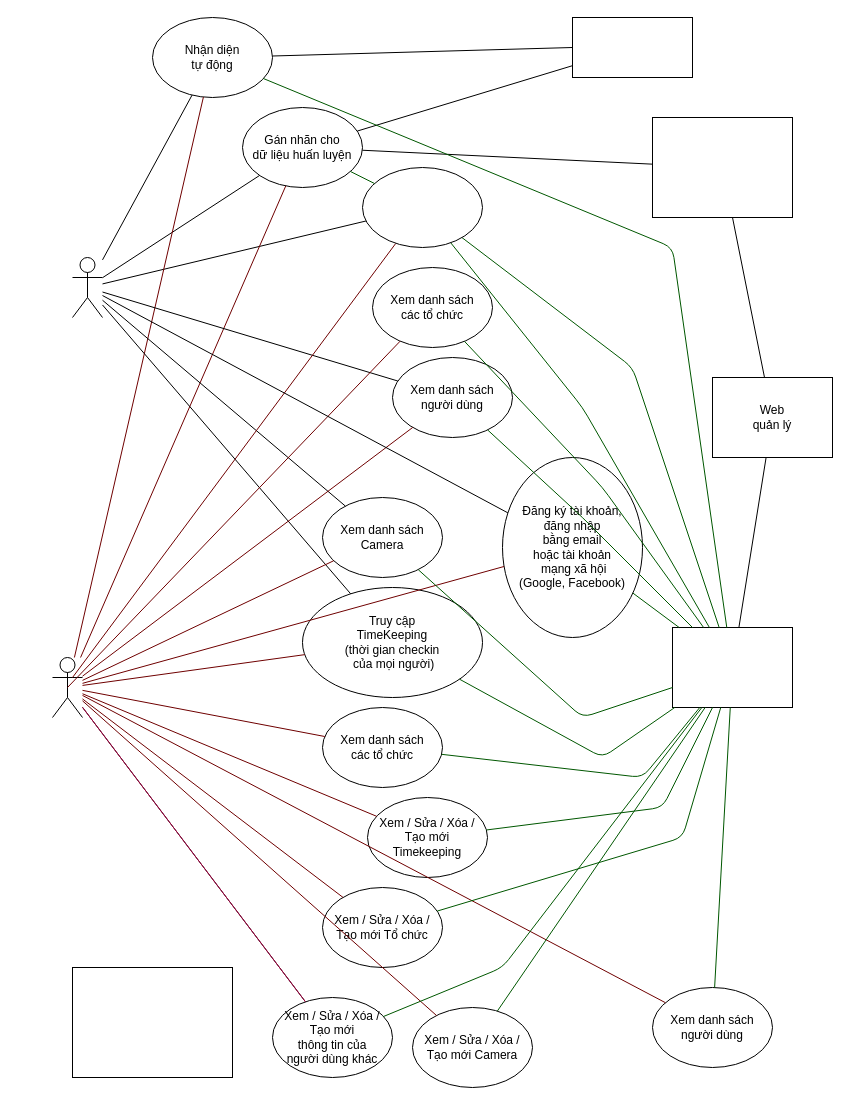
Image size: 850x1105. Some labels were removed from this diagram. Each missing label, with the centre of its shape:
InsightFace Model: pixel 632 47
Người dùng thông thường: pixel 87 287
Người quản trị hệ thống: pixel 67 687
Use Case Hệ thống: pixel 152 1022
Web-App quản lý thông tin chung của tổ chức: pixel 732 667
Web-App quản lý Training Dataset: pixel 722 167
Xem / Sửa / Xóa thông tin của bản thân: pixel 422 207
